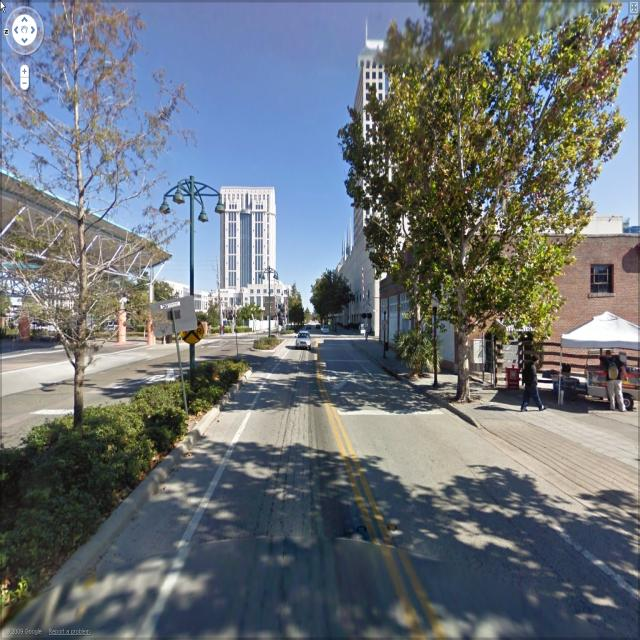b_1: (215, 193, 285, 333)
b_2: (376, 224, 638, 408), (350, 34, 444, 262)
